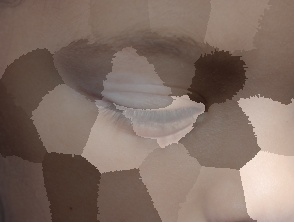vitiligo: (67, 62, 181, 142)
